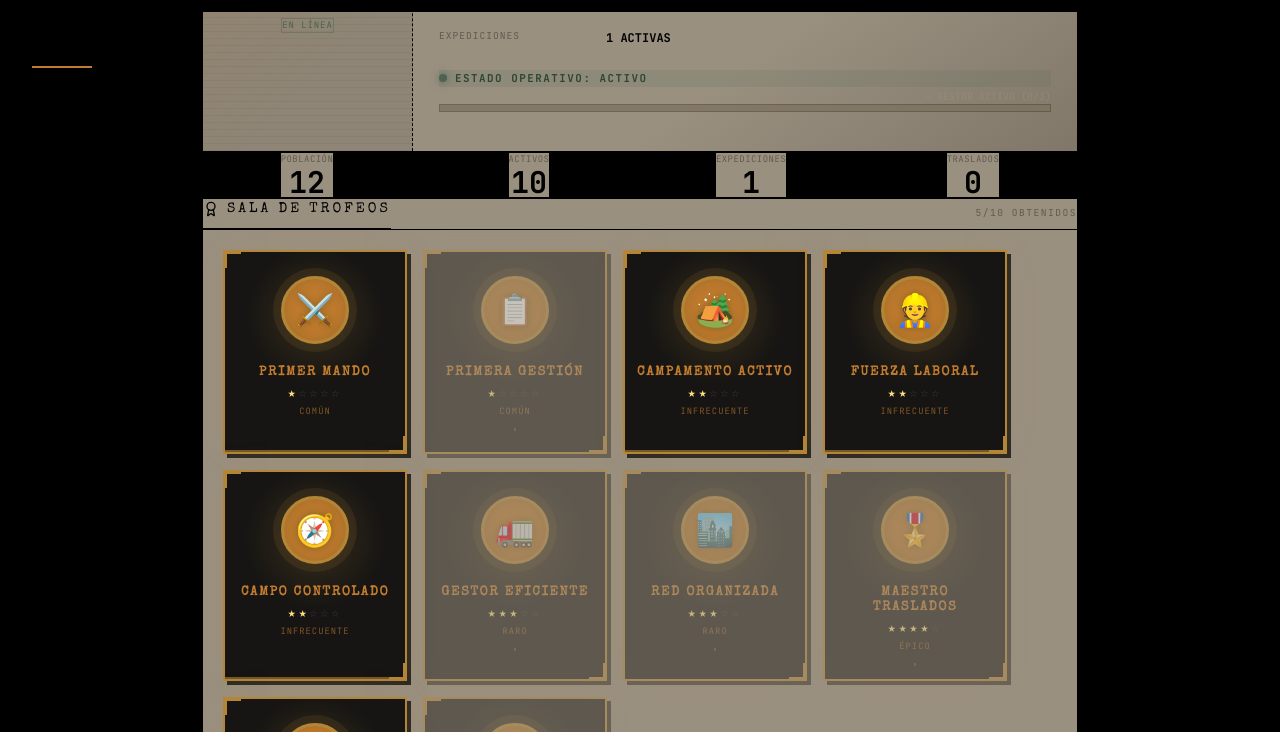
Test case: Admin → AdminProfile › closes trophy modal when CERRAR button is clicked
(page scrolled)
Click the text "PRIMER MANDO" at (315, 372), box [259,365,371,380]
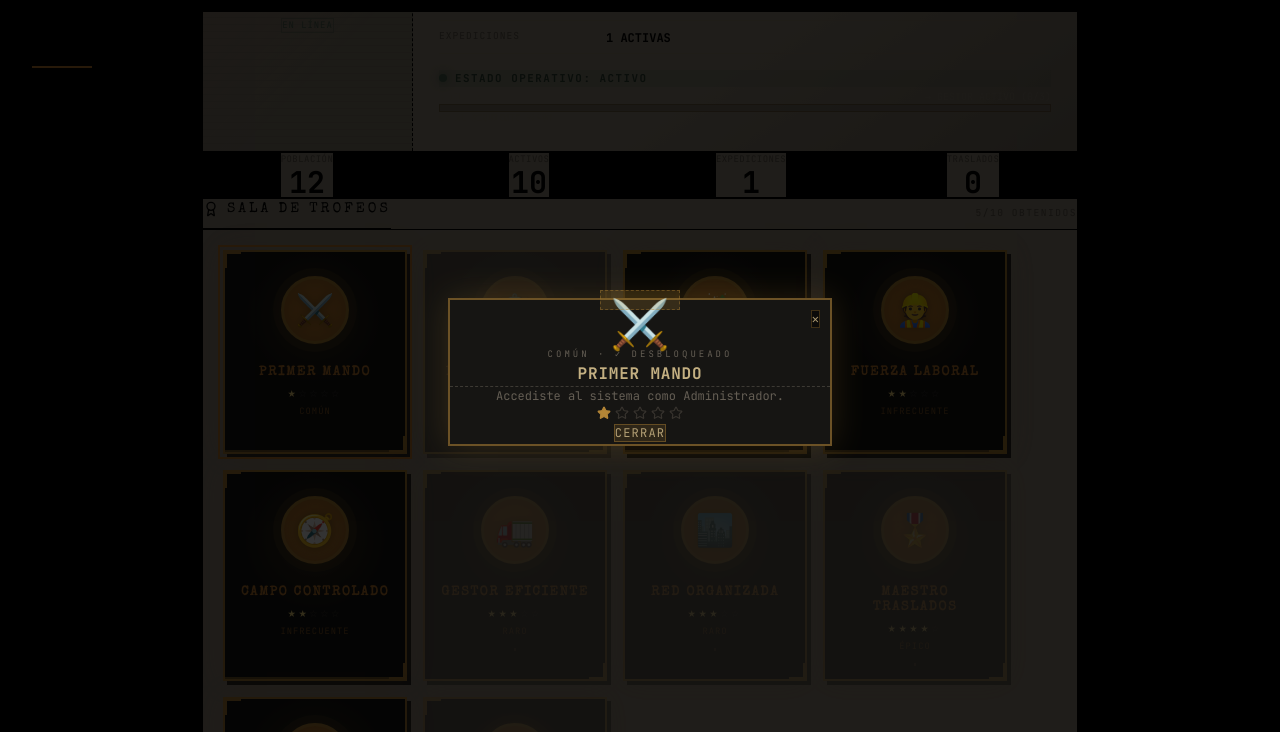
Now the text "Accediste al sistema como Administrador." is shown, box [496,388,784,404]
Click the button "CERRAR" at (640, 433), box [614,424,666,442]
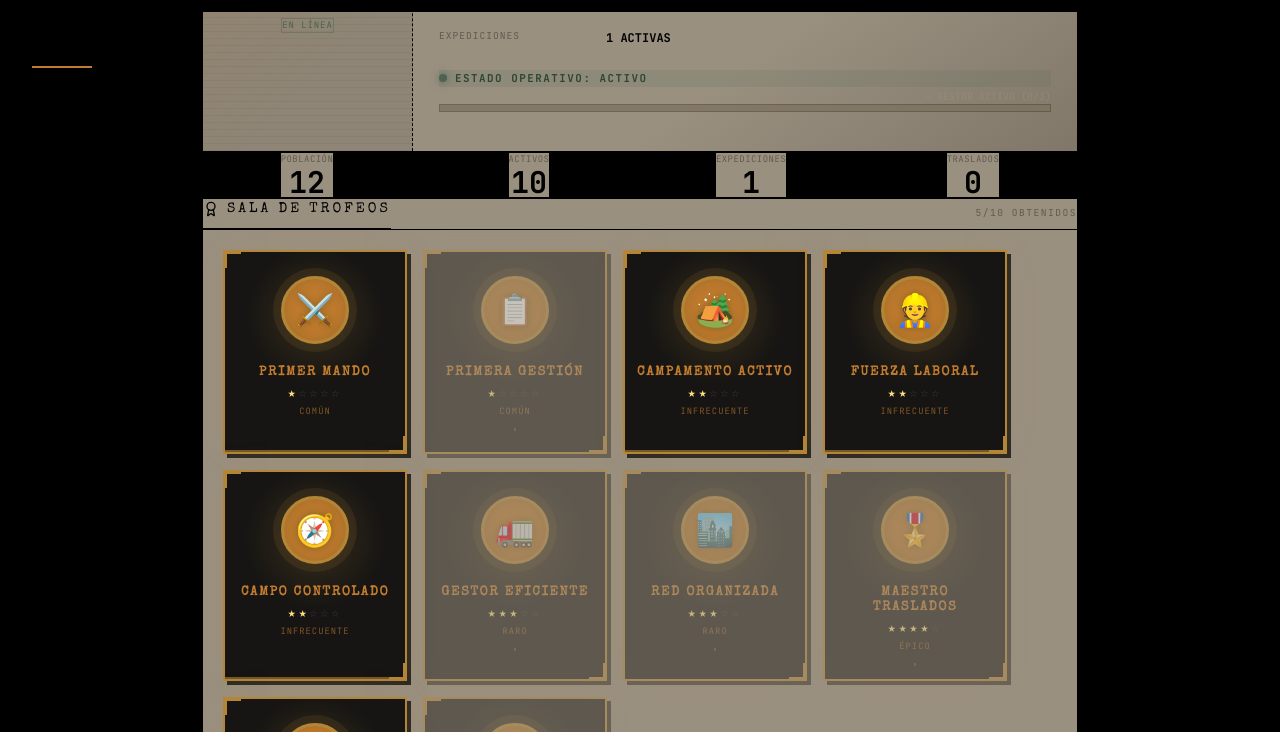
Now the text "Accediste al sistema como Administrador" is gone
